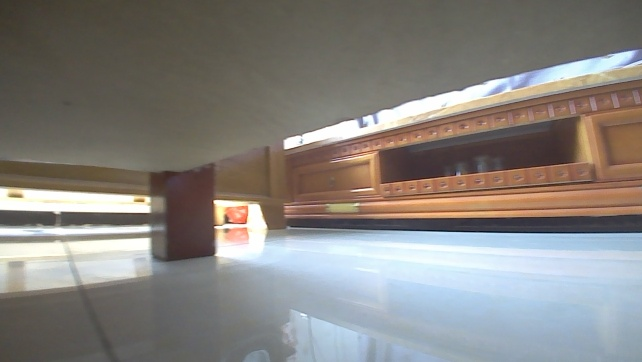TV_stand1: (277, 60, 641, 230)
